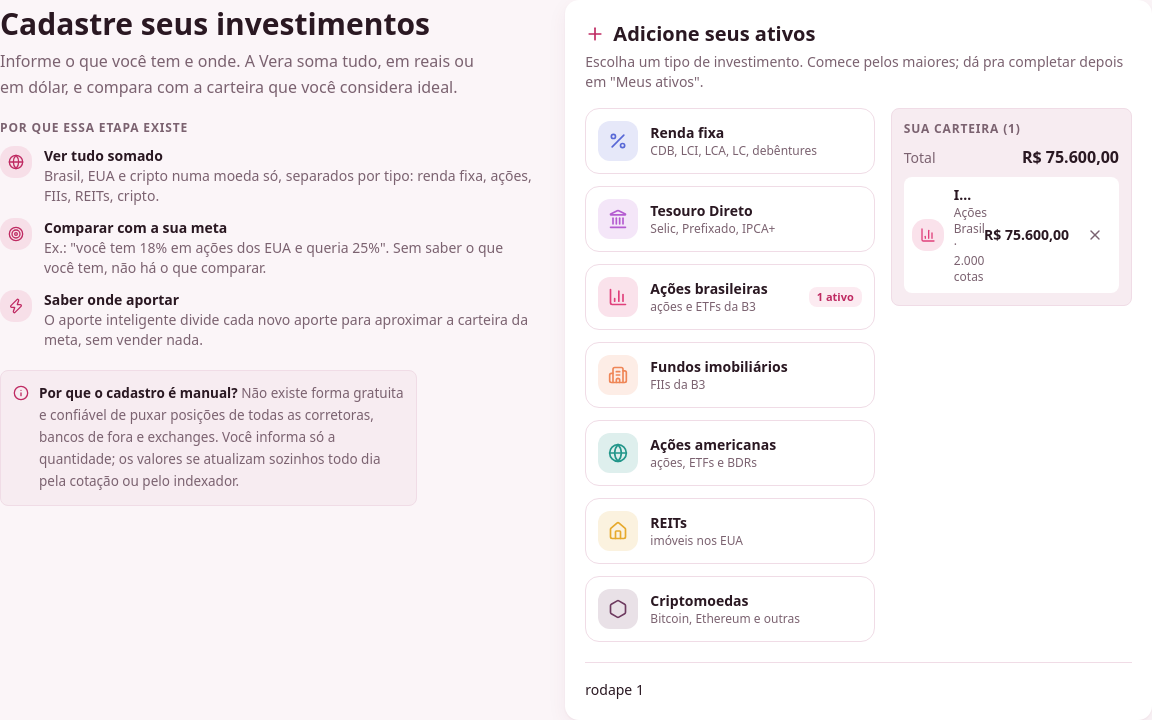
it: AssetsStep › avisa quando a remoção falha e mantém o ativo
Click the button named "Remover ITUB4": (1095, 235) [1079,219,1111,251]
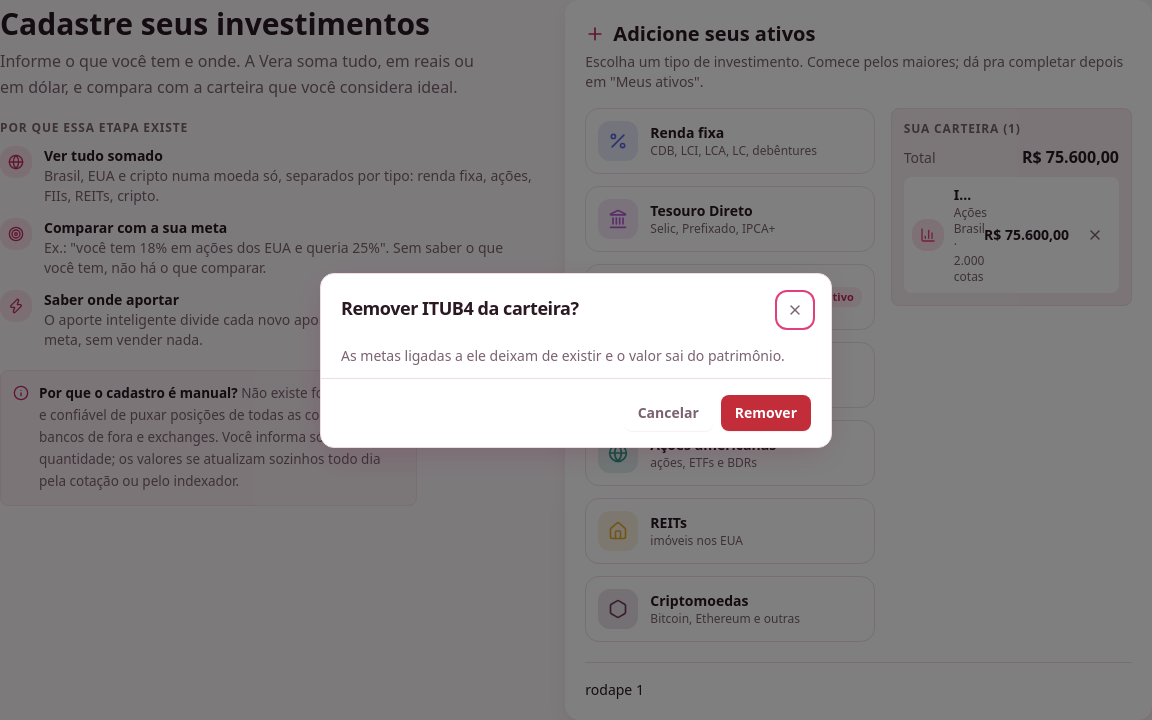
Click the button "Remover": (766, 412) [721,394,811,430]
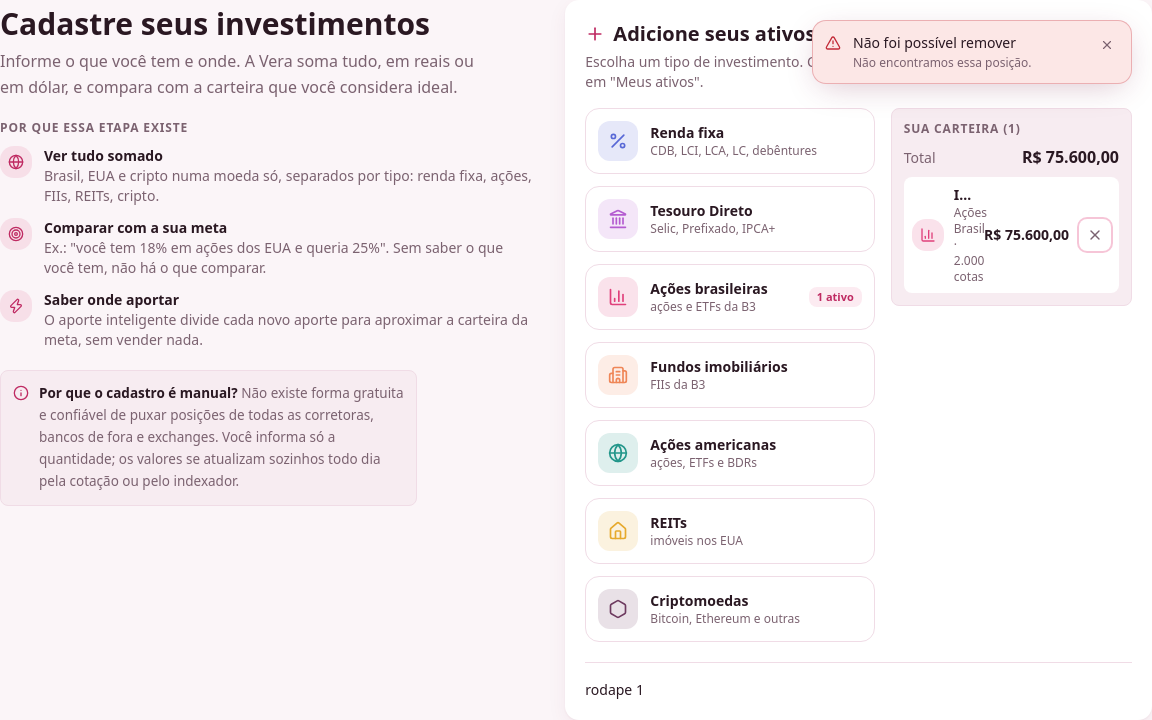
Expected: the text "Não foi possível remover" is shown, [853,33,1032,53]
